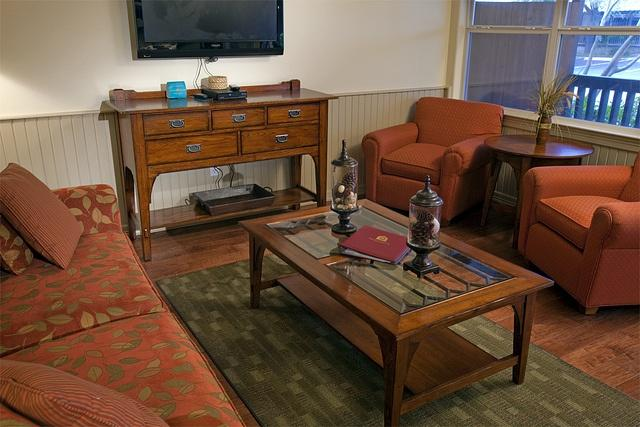AIO PC-Monitor-TV: (130, 0, 285, 59)
Meja: (237, 197, 555, 426)
